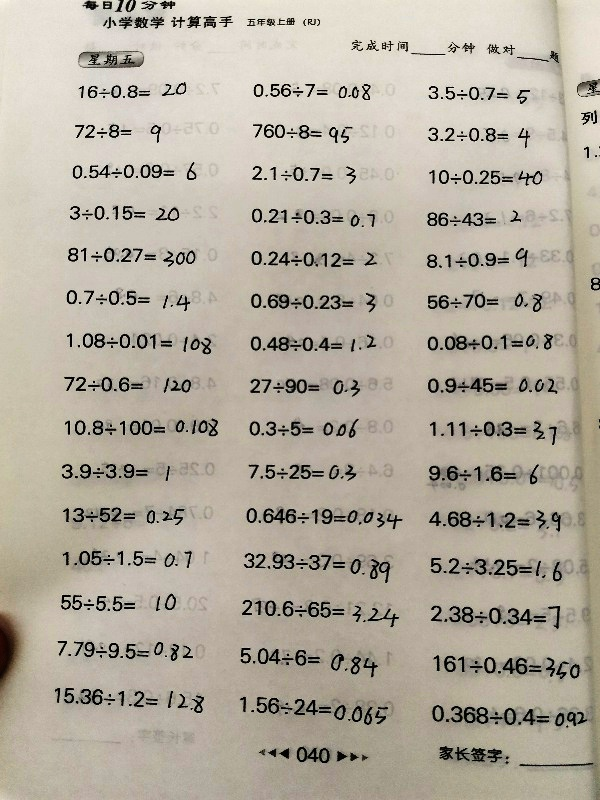equation: (430, 650, 587, 686), (239, 596, 406, 629), (236, 695, 394, 729), (428, 703, 594, 734), (241, 549, 393, 579), (50, 684, 207, 711), (55, 371, 196, 401), (428, 602, 564, 633), (61, 415, 222, 441), (242, 504, 405, 529), (236, 646, 381, 674), (425, 414, 560, 444), (425, 504, 564, 532), (54, 636, 196, 663), (63, 330, 215, 355), (426, 555, 565, 582), (242, 373, 370, 402), (423, 289, 551, 318), (58, 546, 195, 571), (63, 244, 199, 269), (69, 159, 201, 184), (57, 591, 188, 616), (248, 162, 367, 189), (59, 504, 187, 529), (425, 461, 543, 488), (59, 460, 185, 485), (421, 205, 537, 232), (424, 374, 560, 397), (250, 80, 375, 105), (423, 331, 556, 354), (247, 247, 380, 270), (246, 416, 362, 442), (247, 206, 378, 229), (69, 116, 172, 145), (422, 244, 531, 271), (424, 123, 533, 150), (246, 332, 379, 354), (425, 166, 546, 189), (66, 201, 183, 224), (248, 120, 355, 145), (75, 79, 190, 102), (246, 461, 360, 484), (246, 290, 356, 313), (424, 82, 533, 105), (63, 286, 154, 309)
